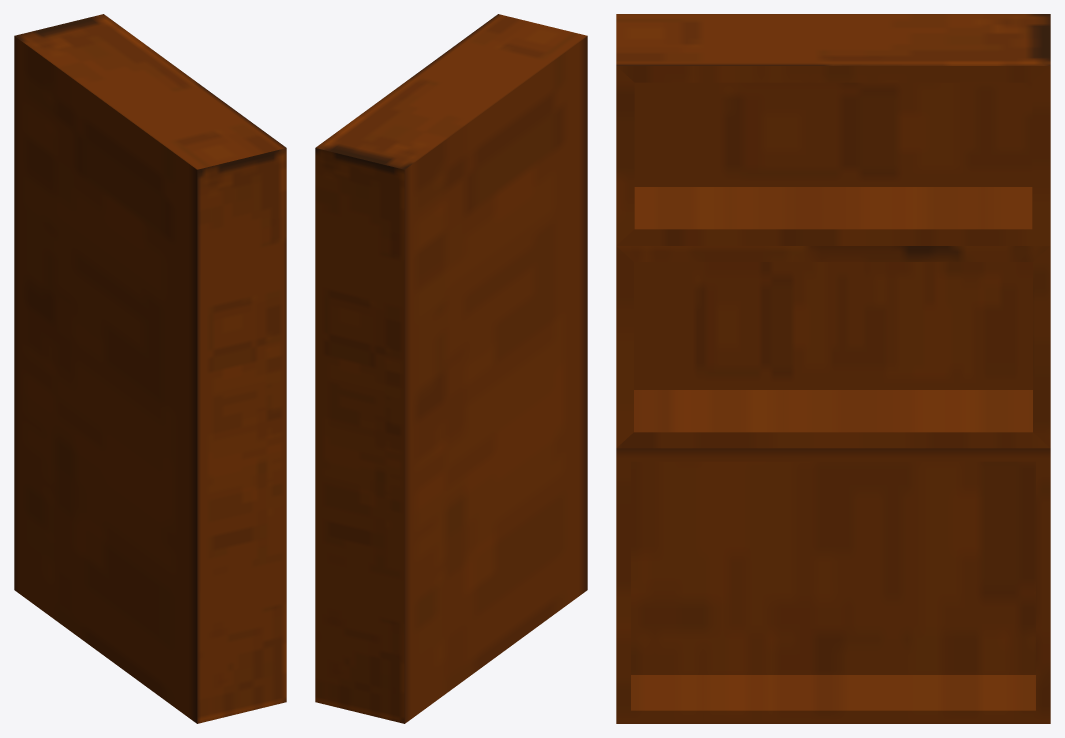
The model's file is library_2.fbx.
The picture shows the model from 3 angles, left to right: view 1: azimuth 30°, elevation 25°; view 2: azimuth 150°, elevation 25°; view 3: azimuth 270°, elevation 25°; orthographic projection. The views are drawn at different scales.
Visible parts, largest first — view 1: Cube.001; view 2: Cube.001; view 3: Cube.001.
Boxes of the visible parts, x1,y1,x2,y2 form: Cube.001: [14, 14, 286, 723]; Cube.001: [315, 14, 587, 723]; Cube.001: [616, 14, 1050, 723].
Size of the model in its own units: 56.51 by 334 by 200.
